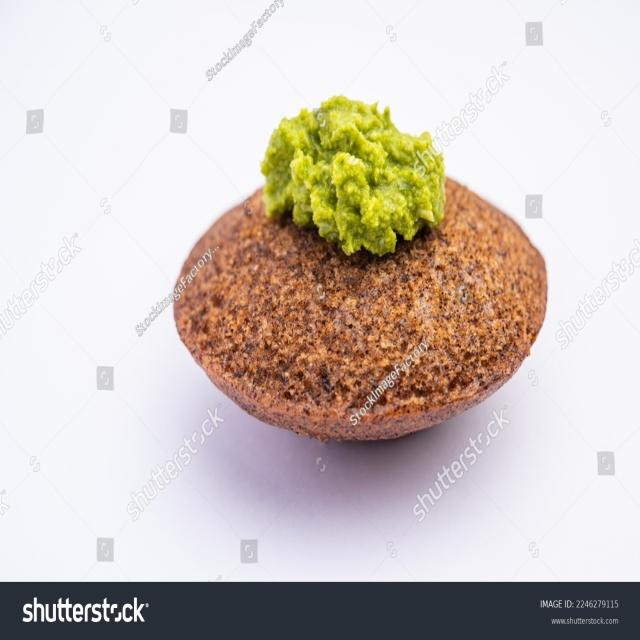IDLI: (174, 178, 547, 440)
